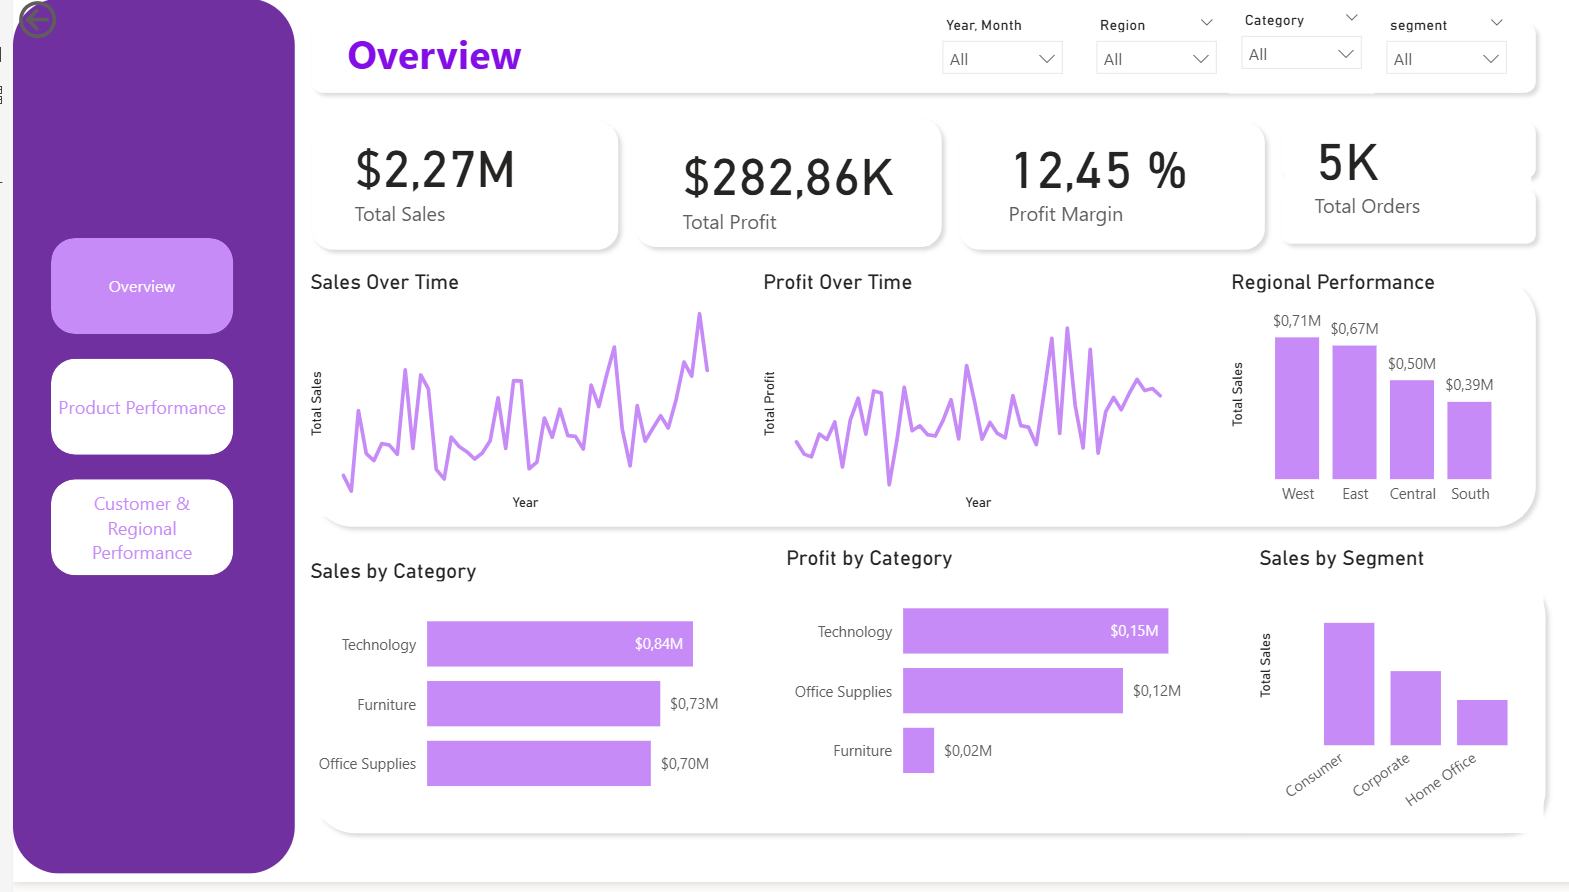

Layout of this report page (visuals, bound fields, positions):
{"tool":"powerbi","page":{"name":"Overview","canvas":[1280,720],"ordinal":0},"visuals":[{"type":"cardVisual","fields":{"Data":["superstore_db order_items.Total Sales"]},"box":[253.6,106.8,234.6,90.9],"z":0},{"type":"cardVisual","fields":{"Data":["superstore_db order_items.Total Profit"]},"box":[520.2,113.8,225.6,90.9],"z":1000},{"type":"cardVisual","fields":{"Data":["superstore_db order_items.Profit Margin %"]},"box":[784.8,100.8,222.7,103.8],"z":2000},{"type":"cardVisual","fields":{"Data":["superstore_db order_items.Total Orders"]},"box":[1033.4,93.9,200.7,103.8],"z":3000},{"type":"lineChart","title":"Profit Over Time","fields":{"Category":["superstore_db orders.order_date.Variation.Date Hierarchy.Year","superstore_db orders.order_date.Variation.Date Hierarchy.Month"],"Y":["superstore_db order_items.Total Profit"]},"box":[604.1,222.7,342.5,200.7],"z":4000},{"type":"clusteredBarChart","title":"Sales by Category","fields":{"Y":["superstore_db order_items.Total Sales"],"Category":["superstore_db products.category"]},"box":[236.6,457.3,367.4,211.7],"z":5000},{"type":"clusteredBarChart","title":"Profit by Category","fields":{"Y":["superstore_db order_items.Total Profit"],"Category":["superstore_db products.category"]},"box":[623,446.3,361.4,211.7],"z":6000},{"type":"columnChart","title":"Regional Performance","fields":{"Y":["superstore_db order_items.Total Sales"],"Category":["superstore_db orders.region"]},"box":[984.5,222.7,241.6,200.7],"z":7000},{"type":"columnChart","title":"Sales by Segment","fields":{"Y":["superstore_db order_items.Total Sales"],"Category":["superstore_db customers.segment"]},"box":[1007.4,446.3,235.6,233.6],"z":8000},{"type":"lineChart","title":"Sales Over Time","fields":{"Category":["superstore_db orders.order_date.Variation.Date Hierarchy.Year","superstore_db orders.order_date.Variation.Date Hierarchy.Month"],"Y":["superstore_db order_items.Total Sales"]},"box":[236.6,222.7,342.5,200.7],"z":9000},{"type":"slicer","title":"Sales Over Time","fields":{"Values":["superstore_db orders.order_date.Variation.Date Hierarchy.Year","superstore_db orders.order_date.Variation.Date Hierarchy.Month"]},"box":[744.8,12,117.8,63.9],"z":10000},{"type":"slicer","title":"Sales Over Time","fields":{"Values":["superstore_db products.category"]},"box":[987.5,8,117.8,71.9],"z":11000},{"type":"slicer","title":"Sales Over Time","fields":{"Values":["superstore_db orders.region"]},"box":[869.6,12,117.8,63.9],"z":12000},{"type":"slicer","title":"Sales Over Time","fields":{"Values":["superstore_db customers.segment"]},"box":[1105.3,12,117.8,63.9],"z":13000},{"type":"textbox","box":[266.6,20,323.5,55.9],"z":14000},{"type":"pageNavigator","box":[31,197.7,148.8,275.6],"z":15000},{"type":"actionButton","box":[0,0,100,40],"z":16000}]}

Visuals, with their boxes in screenshot pixels (x1, y1, x2, y2), scaled from the page's 1280x720 canvas onto the 1569x892 screenshot:
cardVisual - superstore_db order_items.Total Sales: 311 132 598 245
cardVisual - superstore_db order_items.Total Profit: 638 141 914 254
cardVisual - superstore_db order_items.Profit Margin %: 962 125 1235 253
cardVisual - superstore_db order_items.Total Orders: 1267 116 1513 245
"Profit Over Time" lineChart: 740 276 1160 525
"Sales by Category" clusteredBarChart: 290 567 740 829
"Profit by Category" clusteredBarChart: 764 553 1207 815
"Regional Performance" columnChart: 1207 276 1503 525
"Sales by Segment" columnChart: 1235 553 1524 842
"Sales Over Time" lineChart: 290 276 710 525
"Sales Over Time" slicer: 913 15 1057 94
"Sales Over Time" slicer: 1210 10 1355 99
"Sales Over Time" slicer: 1066 15 1210 94
"Sales Over Time" slicer: 1355 15 1499 94
textbox: 327 25 723 94
pageNavigator: 38 245 220 586
actionButton: 0 0 123 50
